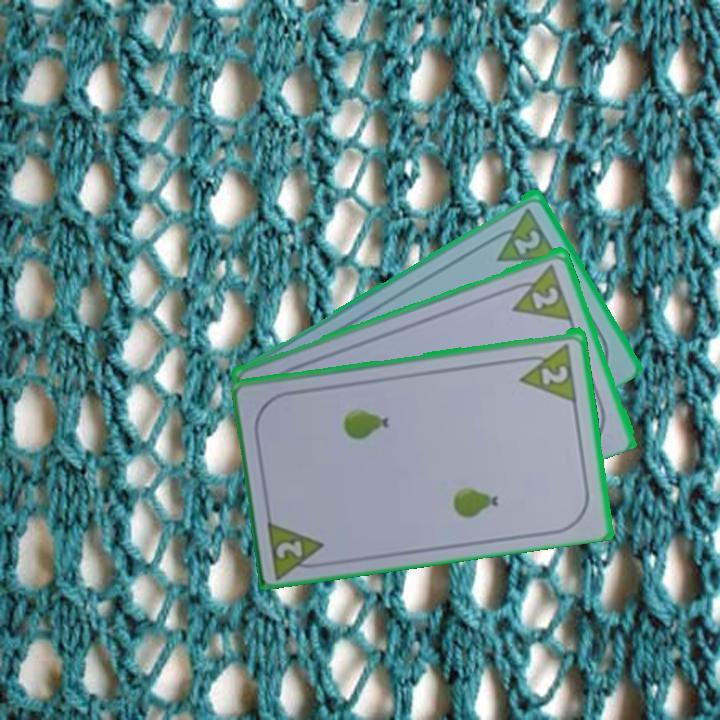2p: (484, 203, 561, 265), (528, 282, 562, 312), (538, 361, 571, 387), (272, 536, 306, 561)
